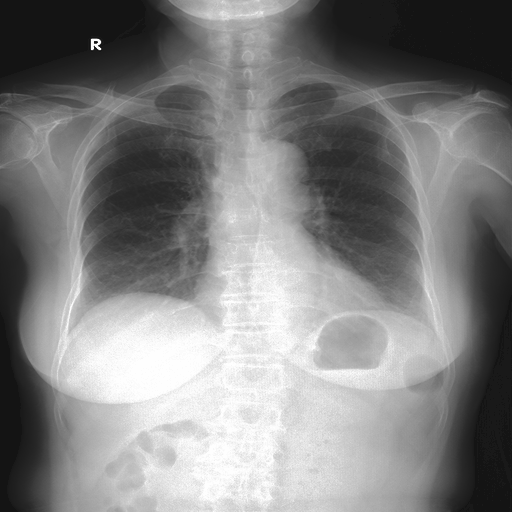Consolidation: (255, 145, 307, 185)
Nodule/Mass: (192, 254, 394, 318)
